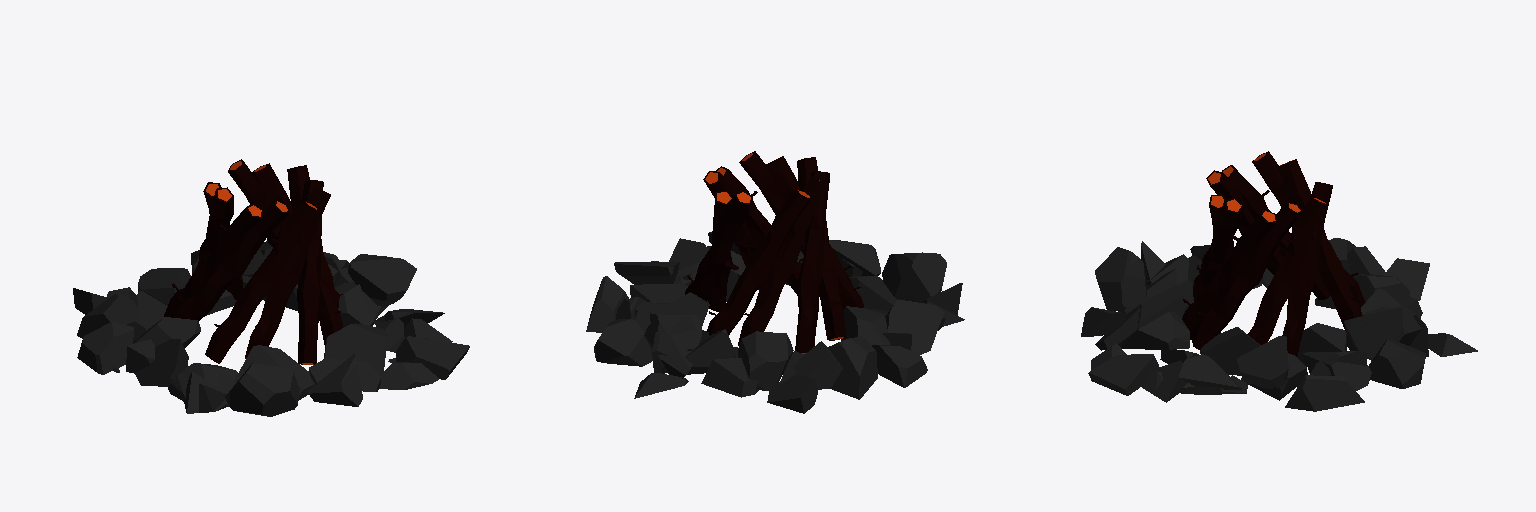
File: CompleteCampfire.obj
The picture shows the model from 3 angles: view 1: azimuth 30°, elevation 25°; view 2: azimuth 150°, elevation 25°; view 3: azimuth 270°, elevation 25°; orthographic projection.
Visible parts, largest first — view 1: Cube_cell, Cylinder; view 2: Cube_cell, Cylinder; view 3: Cube_cell, Cylinder.
Part boxes in pixels (bbox=[...]): Cube_cell: bbox=[73, 241, 469, 416]; Cylinder: bbox=[164, 159, 342, 364]; Cube_cell: bbox=[586, 232, 964, 413]; Cylinder: bbox=[685, 151, 863, 353]; Cube_cell: bbox=[1081, 238, 1477, 411]; Cylinder: bbox=[1182, 151, 1364, 356].
Size of the model in its own units: 3.11 by 1.55 by 3.39.